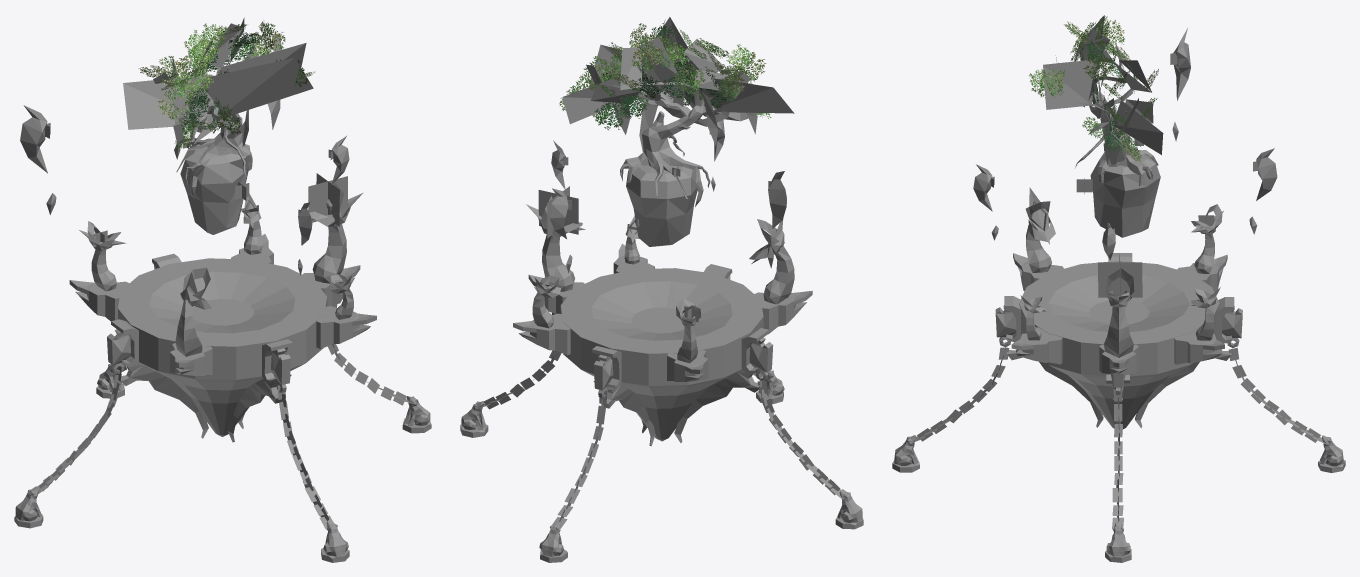
3 views of the same model, side by side, from view 1: azimuth 30°, elevation 25°; view 2: azimuth 150°, elevation 25°; view 3: azimuth 270°, elevation 25° (orthographic). The views are drawn at different scales.
Visible parts, largest first — view 1: s_t_fuhuodian_001; view 2: s_t_fuhuodian_001; view 3: s_t_fuhuodian_001.
Boxes of the visible parts, left/top/right/bottom form: s_t_fuhuodian_001: left=14, top=17, right=431, bottom=562; s_t_fuhuodian_001: left=460, top=17, right=863, bottom=562; s_t_fuhuodian_001: left=892, top=15, right=1345, bottom=562.
Size of the model in its own units: 144 by 154 by 144.
